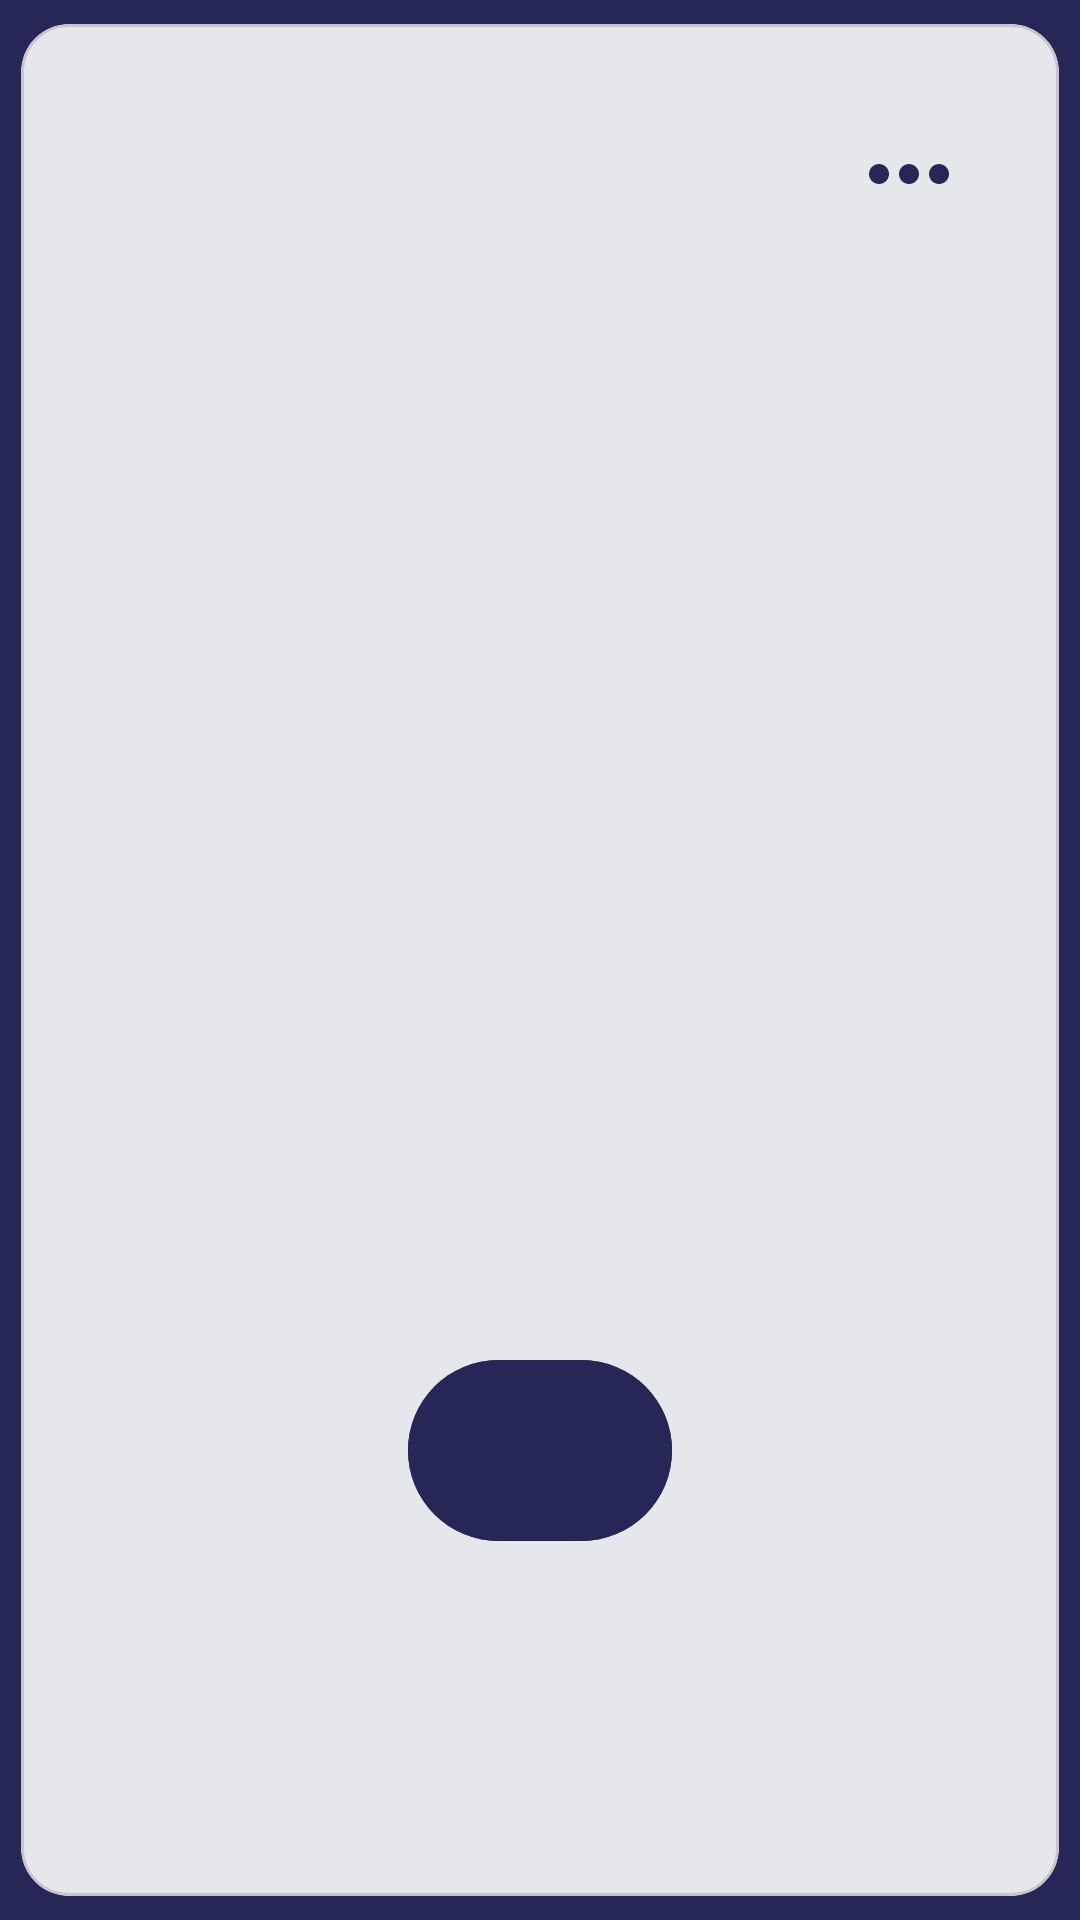

Screen size 1080*1920. Icon name, then its center in pixels as [x,y]:
meatballs menu: [909,174]
